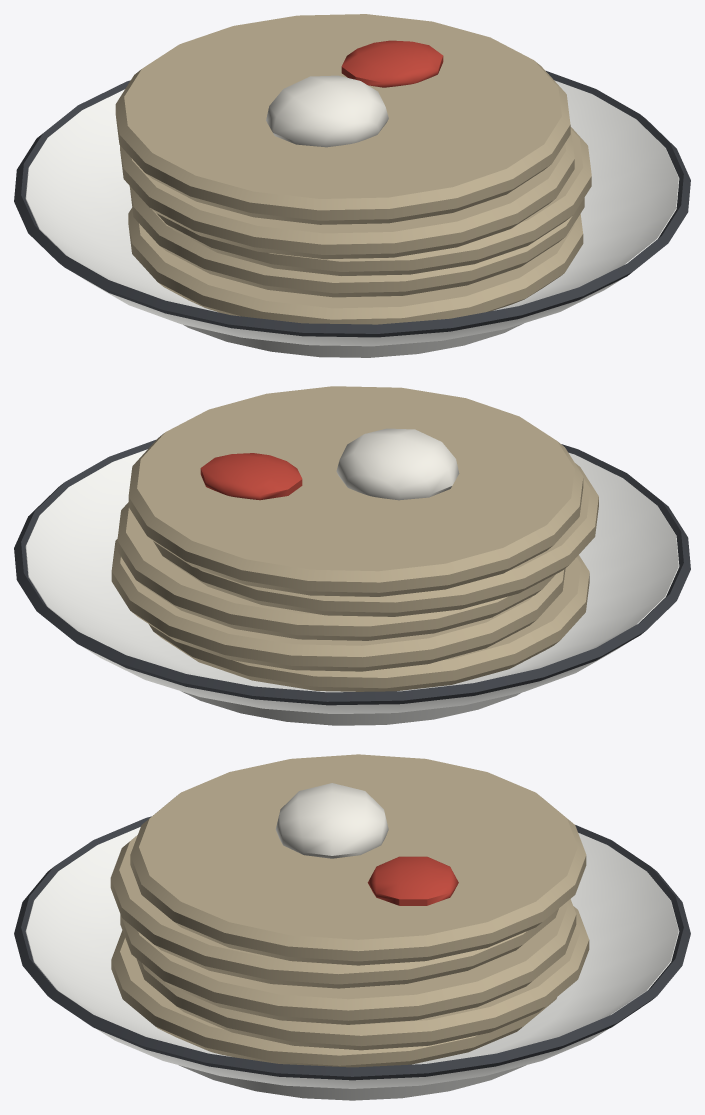
File: cook_pancake.glb
3 renders of one model, top to bottom at view 1: azimuth 30°, elevation 25°; view 2: azimuth 150°, elevation 25°; view 3: azimuth 270°, elevation 25°, orthographic.
Parts seen in each view (by area): view 1: body; view 2: body; view 3: body.
Boxes of the visible parts, <box> form: body: <box>14,14,690,357</box>; body: <box>14,386,690,725</box>; body: <box>14,754,690,1100</box>.
Bounding box in the file's own units: 0.0668 × 0.0214 × 0.0668.
